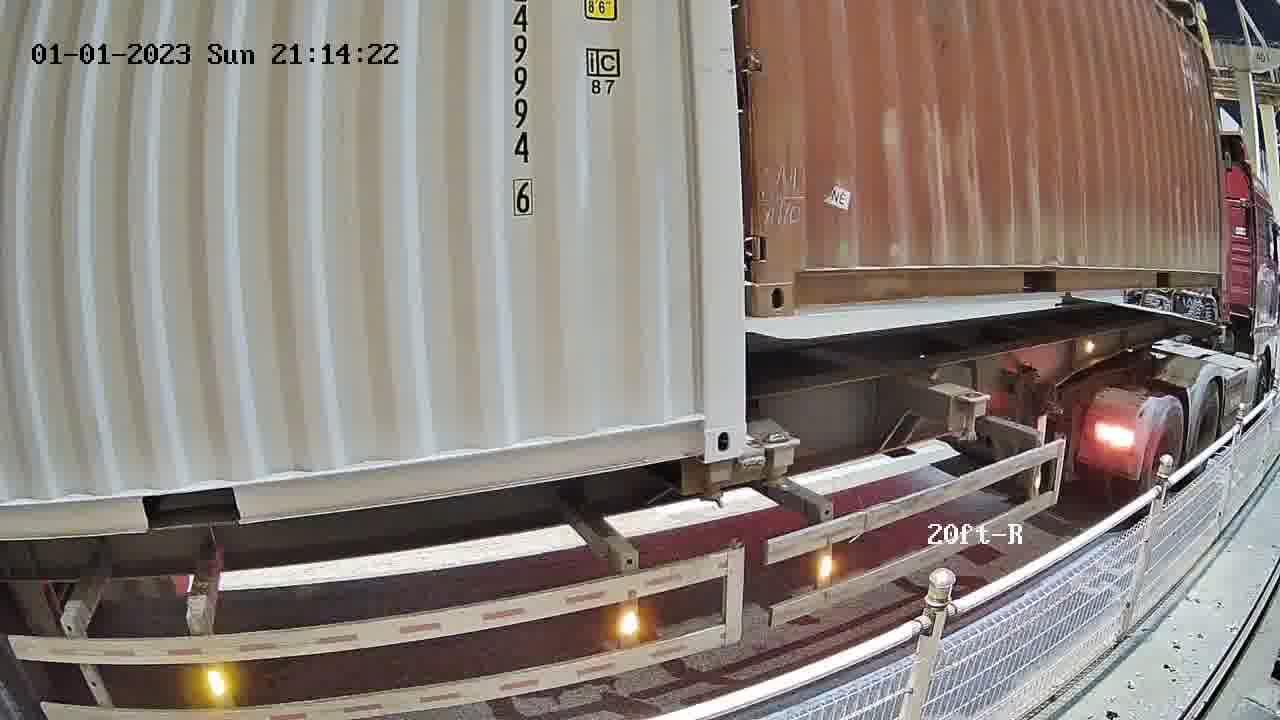Cone: (694, 457, 740, 507), (760, 429, 794, 492)
Hole_L: (756, 229, 833, 314)
Hole_R: (675, 390, 746, 460)
Tire: (1145, 406, 1183, 475), (1189, 379, 1221, 458)
